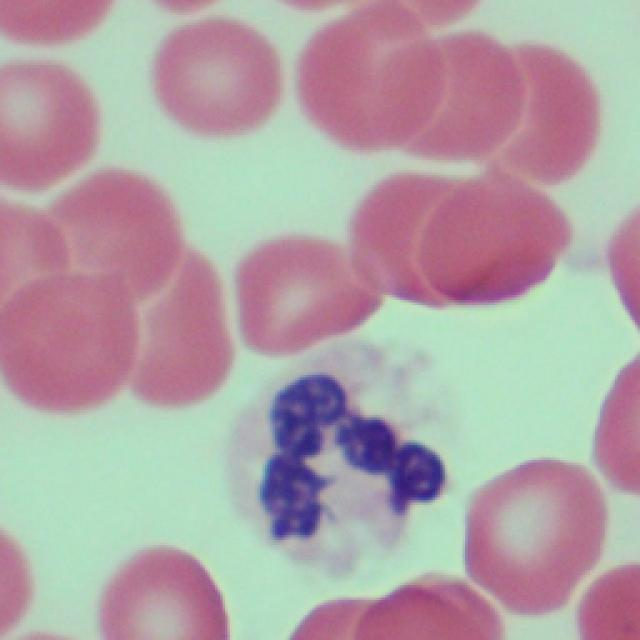RBC: (466, 450, 604, 618), (224, 220, 373, 360), (46, 160, 183, 308), (304, 12, 450, 149), (4, 266, 141, 409), (424, 181, 573, 308), (144, 15, 281, 148), (0, 54, 92, 211), (419, 36, 532, 163), (94, 535, 230, 638), (353, 160, 454, 296), (591, 342, 640, 496), (1, 0, 124, 46), (569, 564, 640, 640), (599, 207, 640, 319)
WBC: (208, 342, 462, 585)
